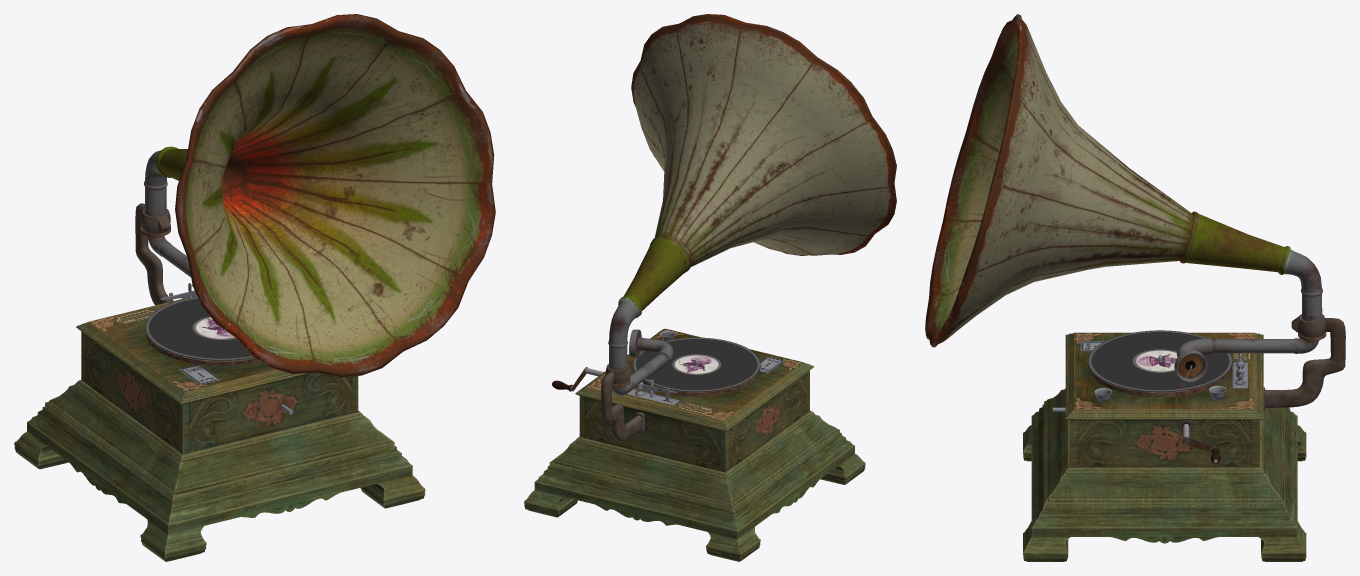
3 renders of one model, left to right at view 1: azimuth 30°, elevation 25°; view 2: azimuth 150°, elevation 25°; view 3: azimuth 270°, elevation 25°, orthographic. The views are drawn at different scales.
Visible parts, largest first — view 1: Body_Low; view 2: Body_Low; view 3: Body_Low.
Boxes of the visible parts, bbox=[...] form: Body_Low: bbox=[14, 14, 495, 561]; Body_Low: bbox=[524, 14, 896, 561]; Body_Low: bbox=[925, 14, 1345, 561].
Size of the model in its own units: 0.5991 by 0.92 by 0.7325.
Materials: 1 (1 with a texture image).
